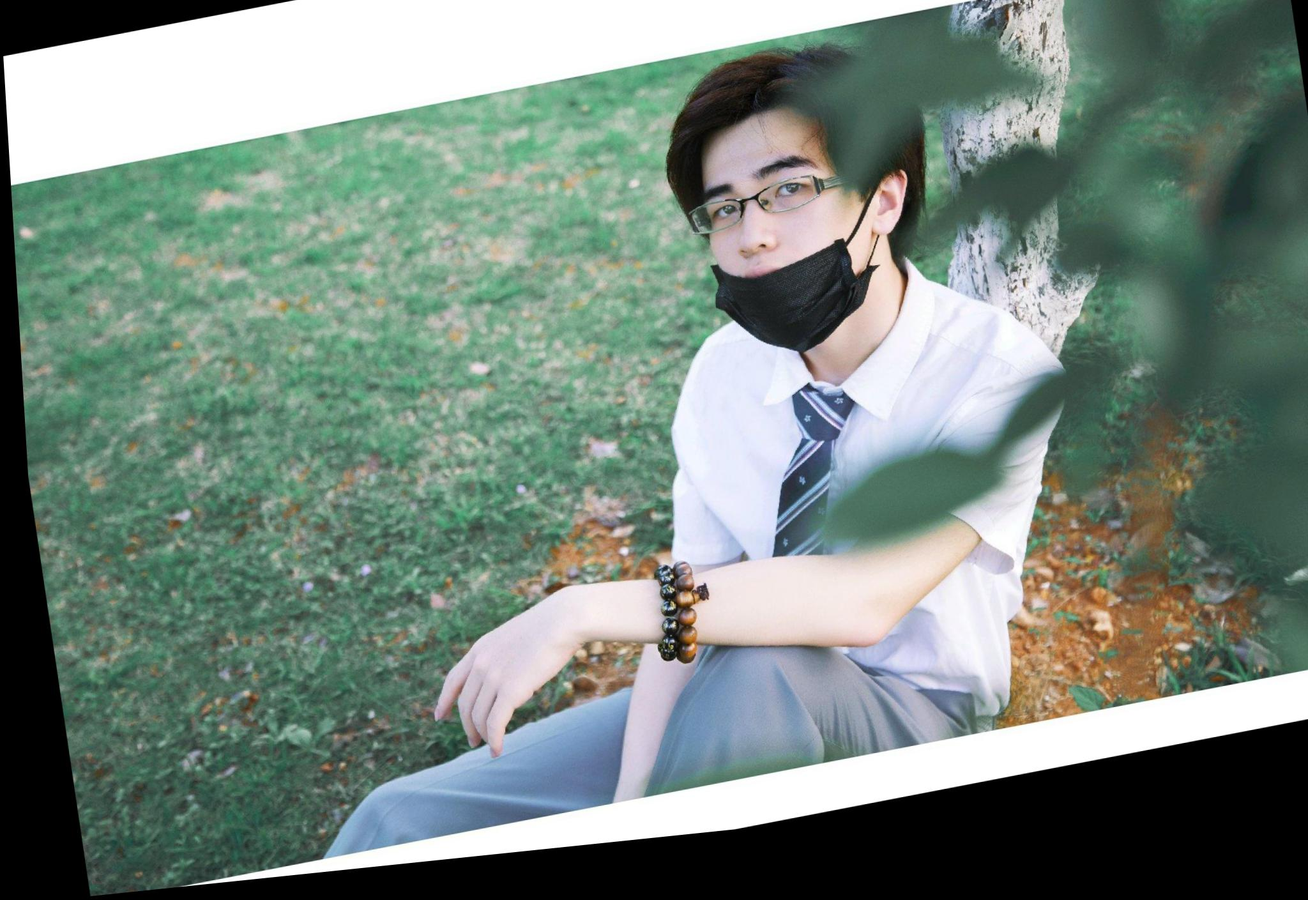WRONG: (688, 146, 862, 351)
